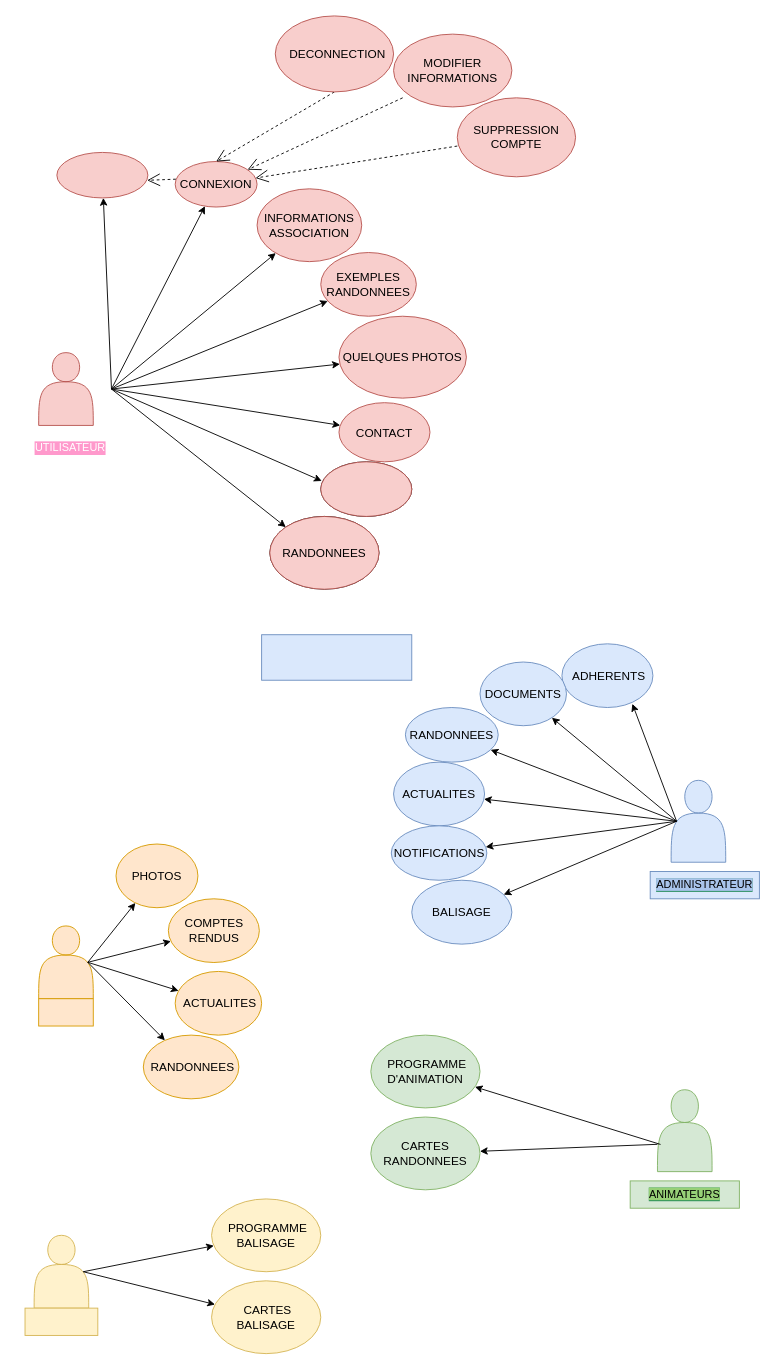
This 775x1370 diagram has some shape labels left out. The shapes that lost their labels are listed below. From the top down, each one's centre as x and y in pixels, then its label:
(102,175): INSCRIPTION
(366,488): ACTUALITE
(336,657): BACK OFFICE
(65,1012): BUREAU
(61,1321): BALISEURS
